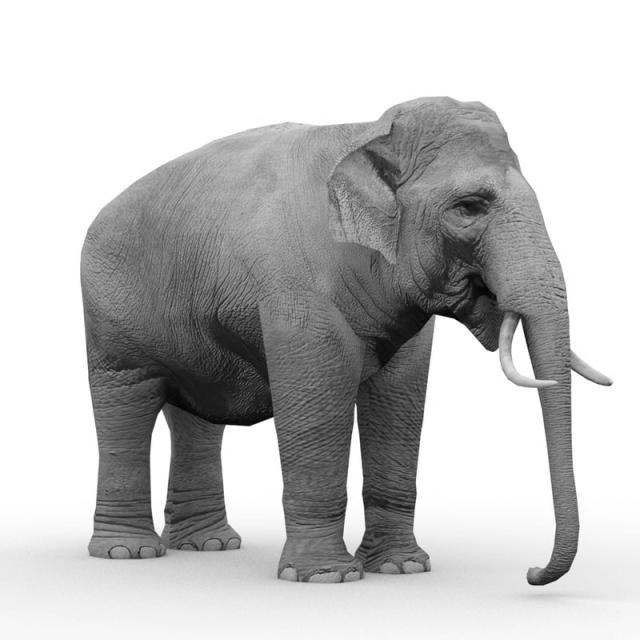Elephant: (79, 94, 613, 586)
